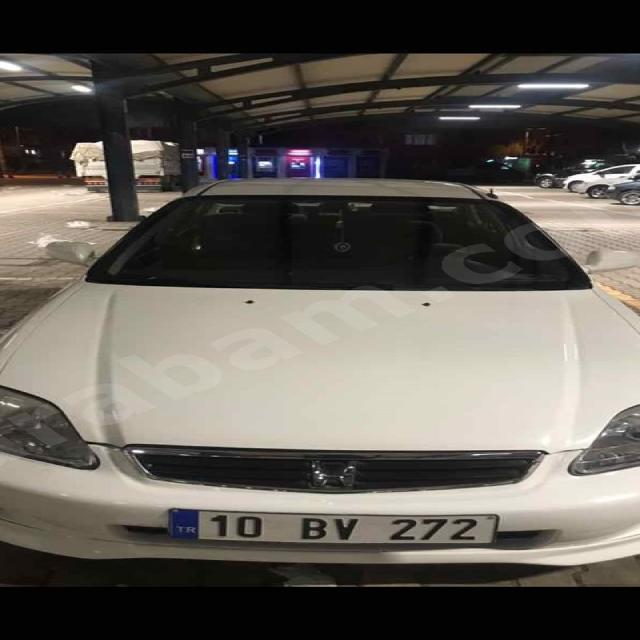license_plate: (168, 509, 499, 544)
